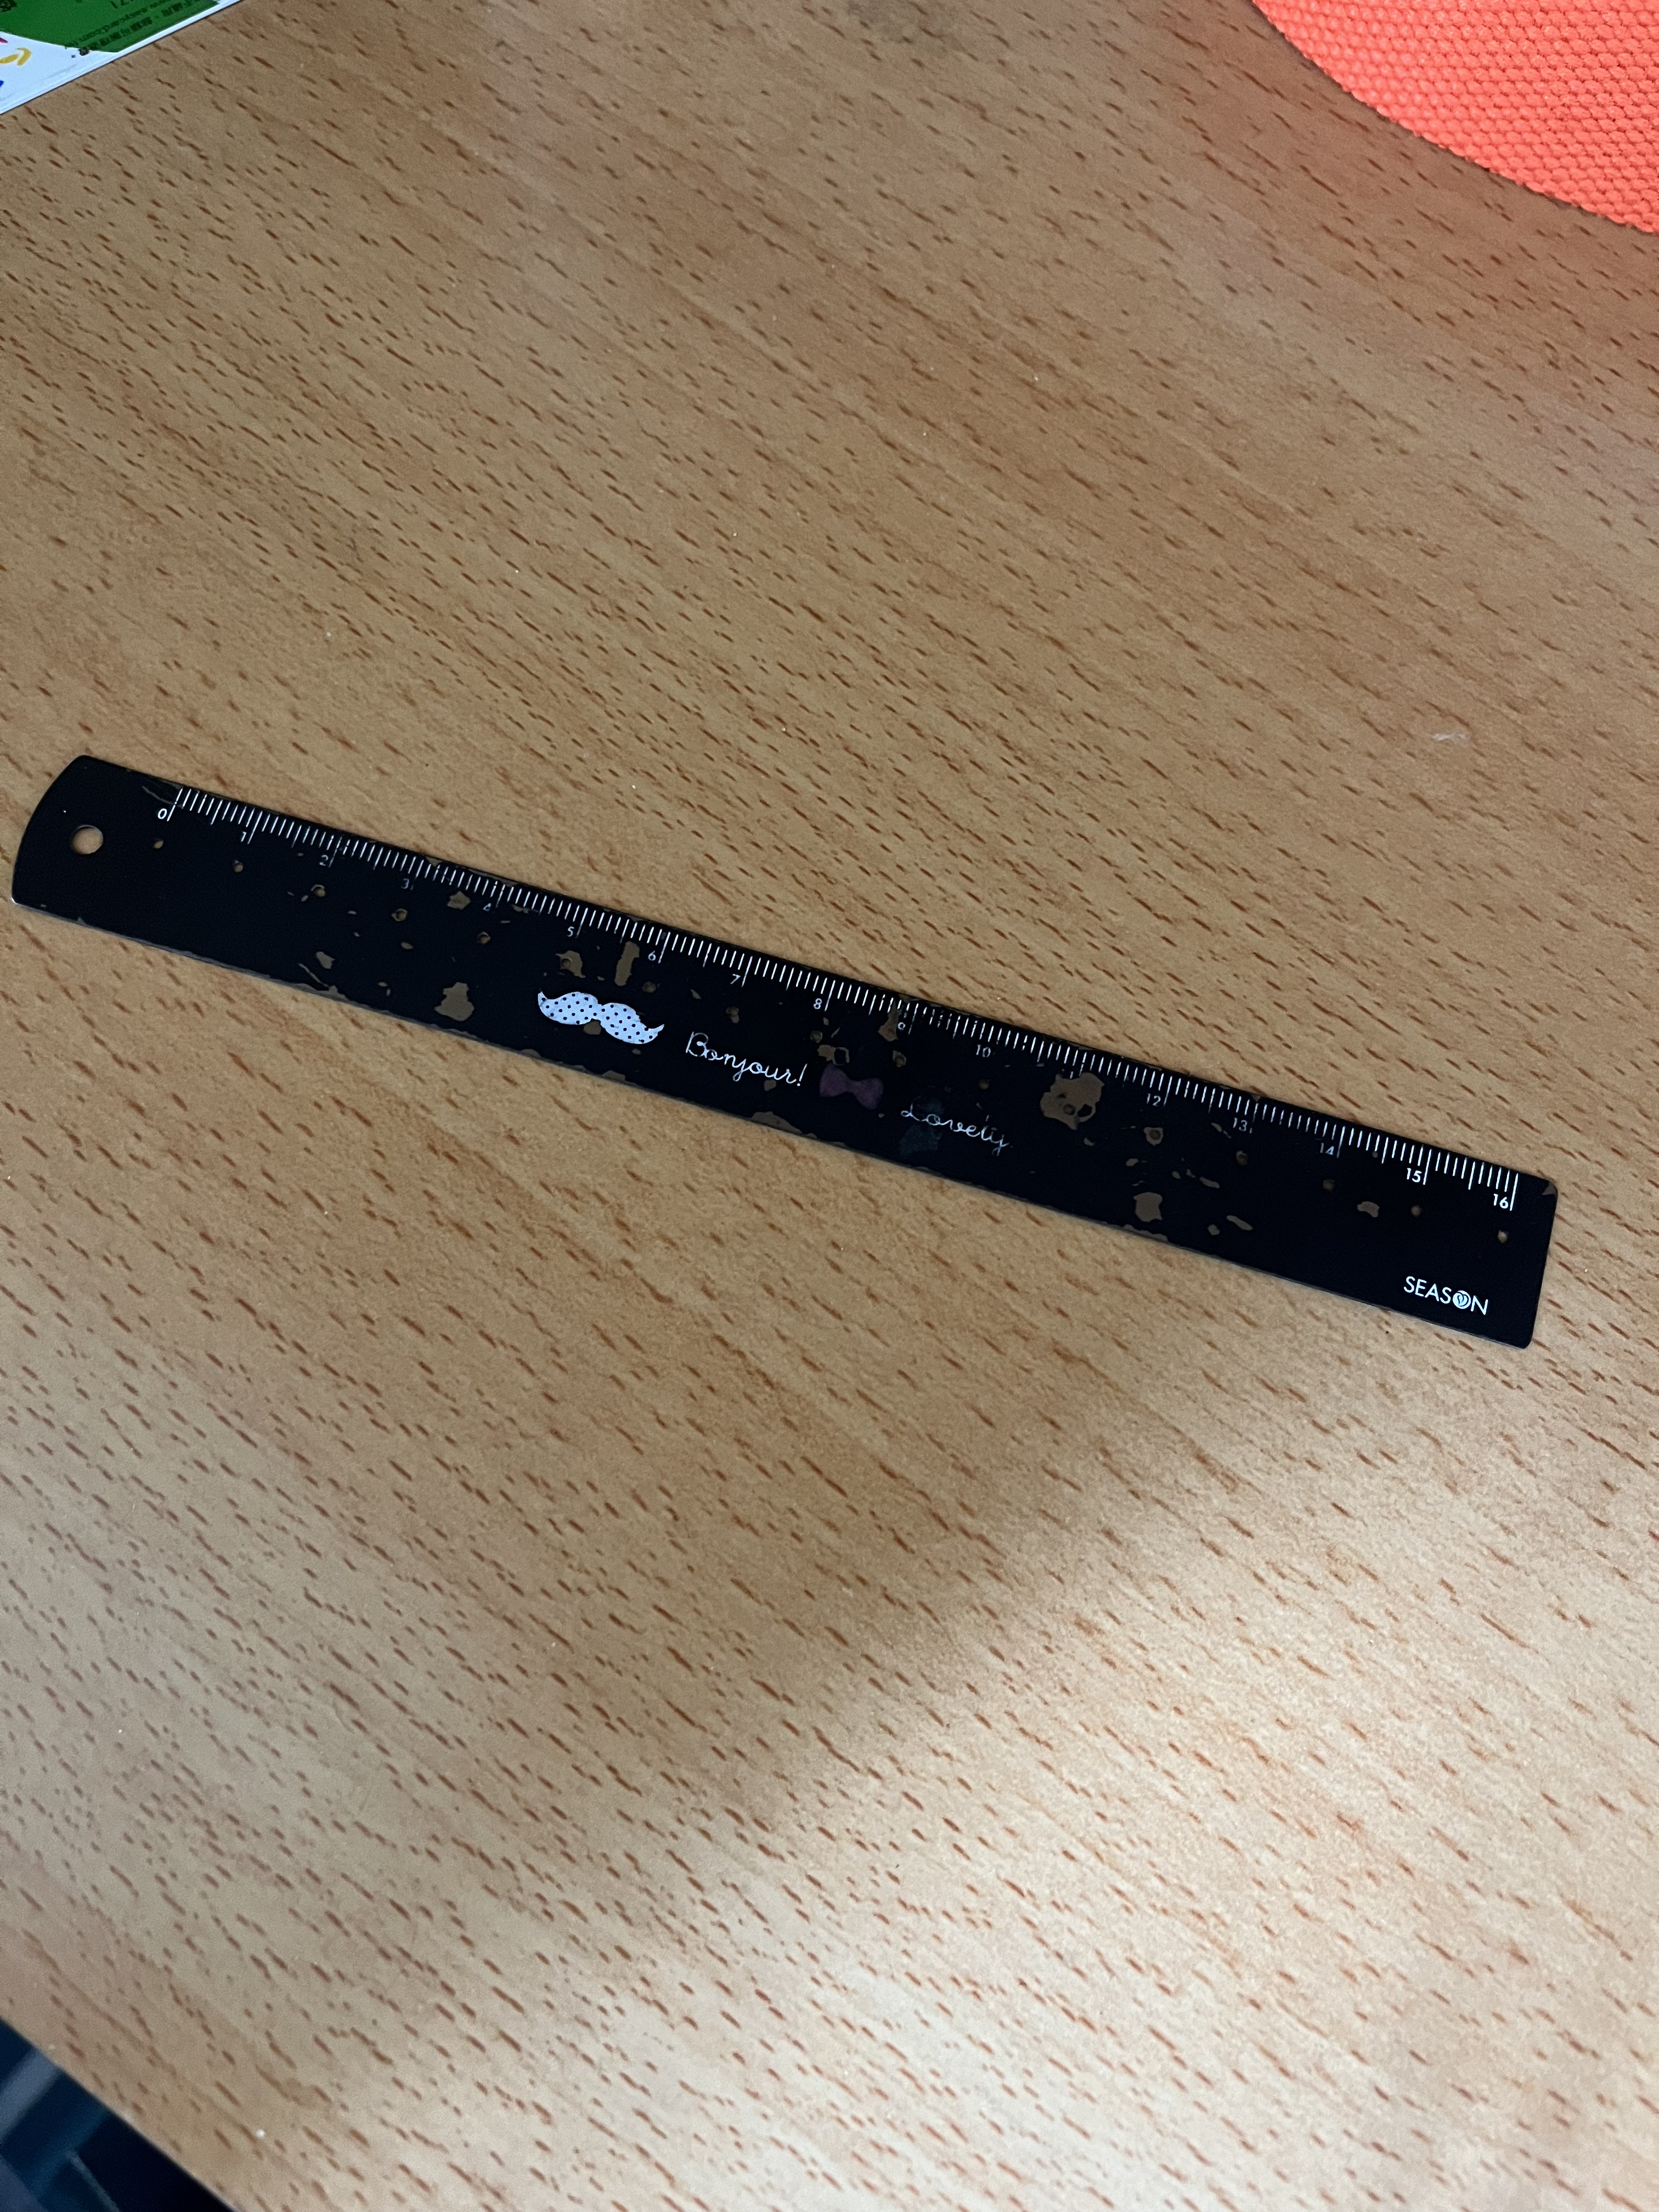ruler: (10, 733, 1588, 1364)
